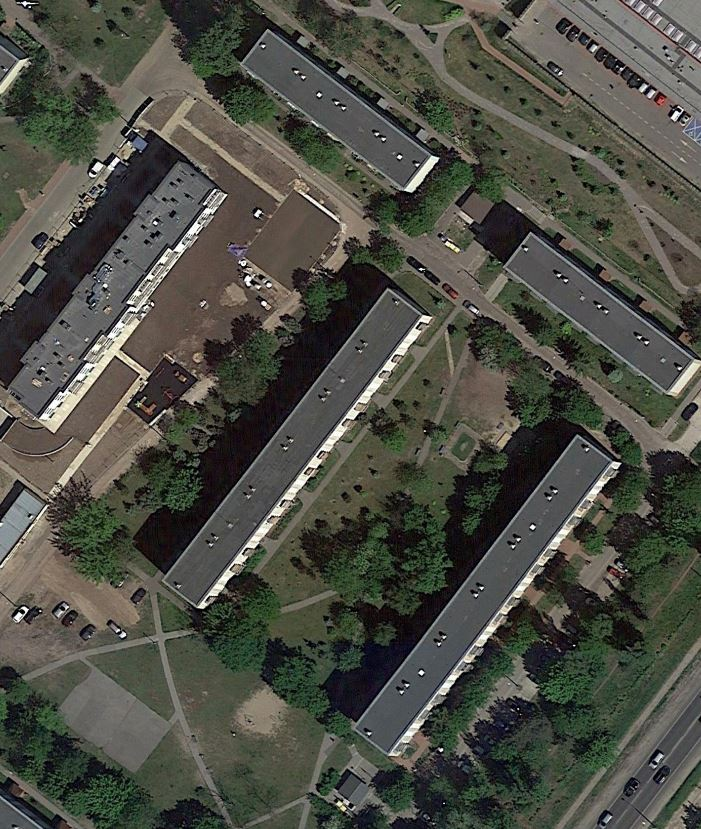block of flats: (342, 422, 628, 770), (152, 284, 440, 629), (1, 150, 239, 447), (496, 222, 699, 405), (233, 28, 442, 199)
